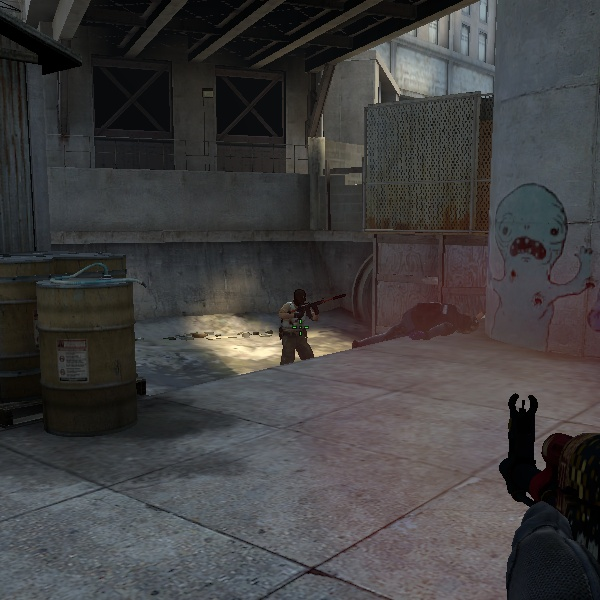t_body: (275, 288, 320, 370)
t_head: (289, 287, 313, 310)
